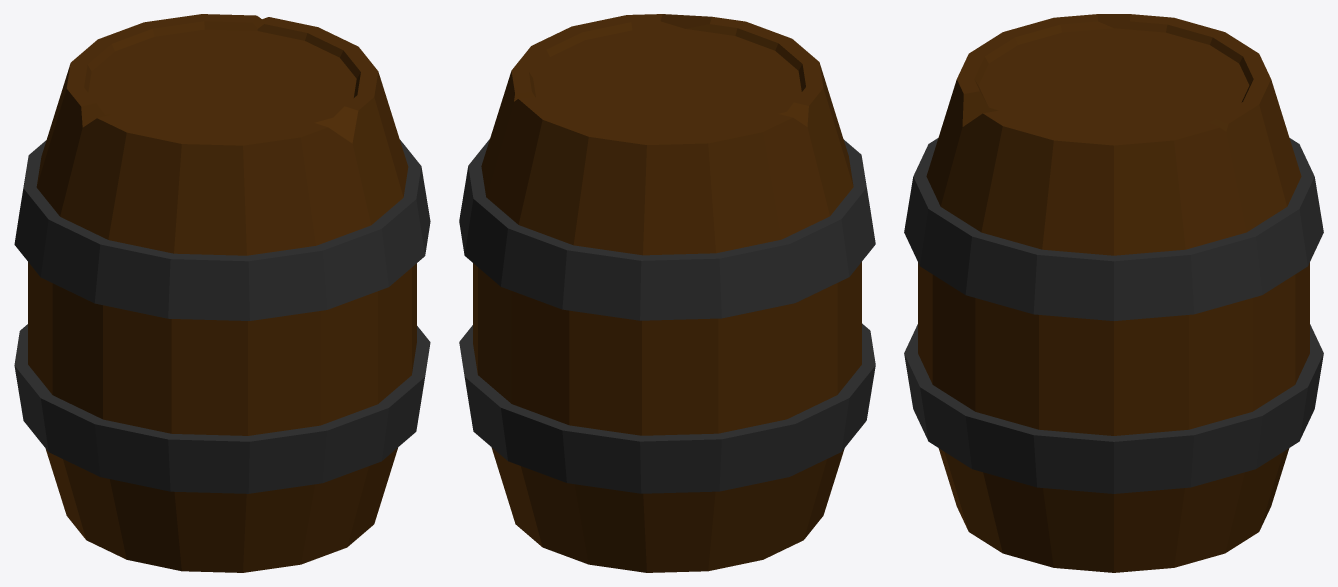
Rendered from Finished barrel.fbx.
3 renders of one model, left to right at view 1: azimuth 30°, elevation 25°; view 2: azimuth 150°, elevation 25°; view 3: azimuth 270°, elevation 25°, orthographic.
Parts seen in each view (by area): view 1: Cylinder, Cylinder.001; view 2: Cylinder, Cylinder.001; view 3: Cylinder, Cylinder.001.
Boxes of the visible parts, box(x1,y1,x2,y2) form: Cylinder: box(28, 14, 416, 572); Cylinder.001: box(14, 140, 430, 493); Cylinder: box(473, 14, 861, 572); Cylinder.001: box(459, 139, 875, 493); Cylinder: box(918, 14, 1309, 572); Cylinder.001: box(904, 138, 1323, 493).
Bounding box in the file's own units: 267 × 300 × 267.
